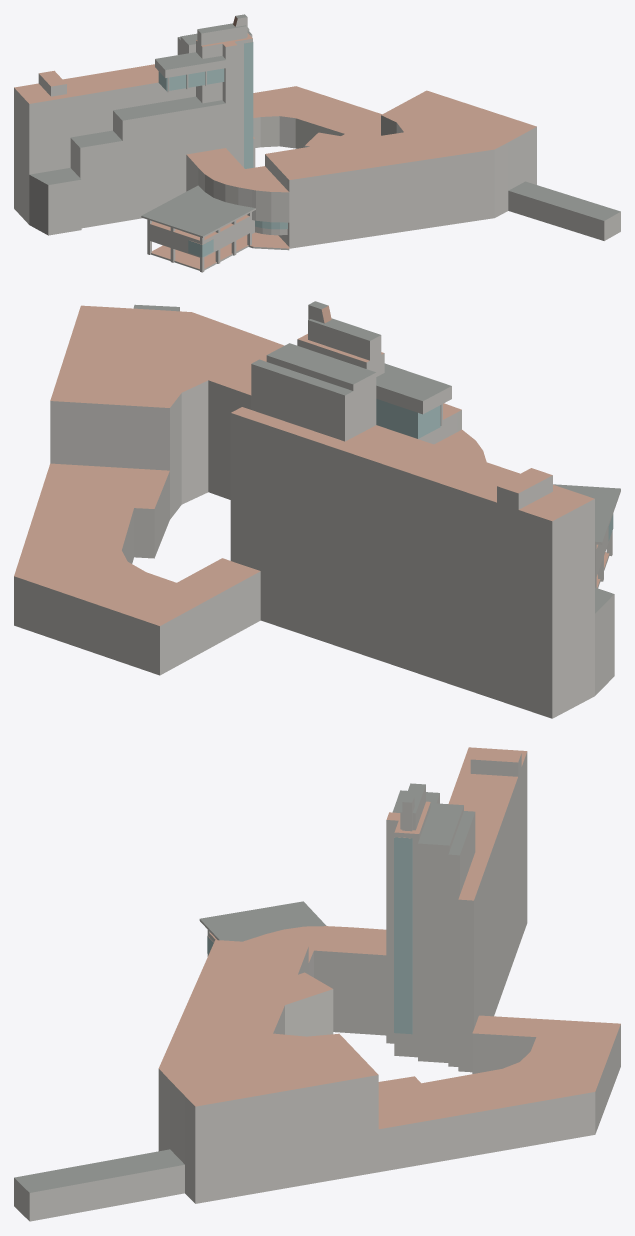
The model's file is gridID_105.dae.
3 renders of one model, top to bottom at view 1: azimuth 30°, elevation 25°; view 2: azimuth 150°, elevation 25°; view 3: azimuth 270°, elevation 25°, orthographic. The views are drawn at different scales.
Visible parts, largest first — view 1: model_gridID_105_r2812444_004, model_gridID_105_w381464488; view 2: model_gridID_105_r2812444_004; view 3: model_gridID_105_r2812444_004, model_gridID_105_w381464488.
Part boxes in pixels (left/top/right/bottom): model_gridID_105_r2812444_004: left=14, top=14, right=536, bottom=272; model_gridID_105_w381464488: left=508, top=181, right=620, bottom=240; model_gridID_105_r2812444_004: left=14, top=301, right=620, bottom=718; model_gridID_105_r2812444_004: left=158, top=747, right=620, bottom=1203; model_gridID_105_w381464488: left=14, top=1149, right=184, bottom=1221.
Bounding box in the file's own units: 113 × 96.06 × 44.
